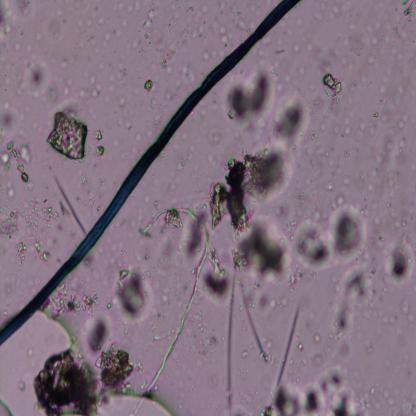Air bubble: (0, 308, 78, 416), (95, 385, 174, 416), (0, 397, 13, 415)
Background material: (152, 3, 213, 99), (358, 12, 416, 105), (256, 366, 354, 415), (351, 132, 416, 204), (34, 343, 98, 414), (235, 213, 289, 280), (294, 93, 334, 173), (272, 303, 308, 386), (332, 266, 374, 335), (212, 160, 250, 233), (111, 264, 155, 324), (247, 146, 292, 202), (229, 69, 275, 122), (50, 171, 88, 235), (76, 13, 132, 53), (333, 201, 368, 263), (48, 108, 87, 162), (294, 216, 330, 270), (95, 344, 134, 392), (226, 297, 242, 414), (296, 34, 338, 78), (274, 95, 308, 146), (168, 153, 208, 195), (18, 196, 61, 233), (184, 205, 212, 261), (349, 385, 399, 416), (74, 159, 102, 213), (55, 69, 91, 110), (201, 266, 234, 306), (54, 287, 99, 316), (106, 62, 133, 110), (82, 312, 113, 353), (1, 140, 29, 184), (387, 242, 416, 284), (197, 117, 226, 154), (240, 332, 272, 362), (252, 291, 294, 313), (0, 1, 19, 44), (25, 63, 50, 94), (23, 33, 48, 60), (0, 100, 18, 136), (12, 96, 30, 128), (90, 126, 106, 160), (0, 210, 21, 234), (380, 304, 397, 332), (323, 75, 342, 100), (399, 0, 416, 27), (32, 238, 50, 262), (142, 6, 158, 30), (341, 338, 353, 365), (218, 21, 228, 48), (89, 74, 101, 96), (396, 114, 410, 130), (15, 242, 26, 262), (344, 115, 352, 136), (16, 378, 27, 392), (145, 78, 156, 92), (337, 192, 345, 208), (314, 332, 324, 344)
Cellulose filter fibre: (132, 208, 209, 414)
Microfibre: (0, 0, 299, 343)
